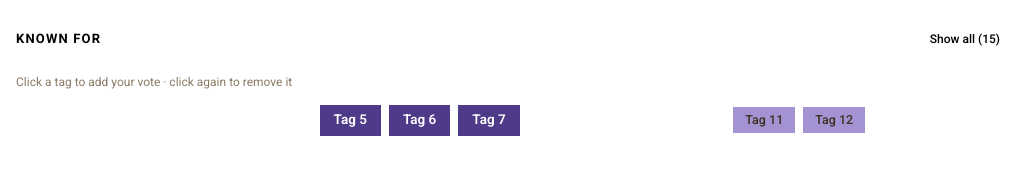
Test case: RankedTagCloud › hides everything past the first twelve until asked
Click the button "Show all (15)" at point(965, 39), box [930,17,1000,61]
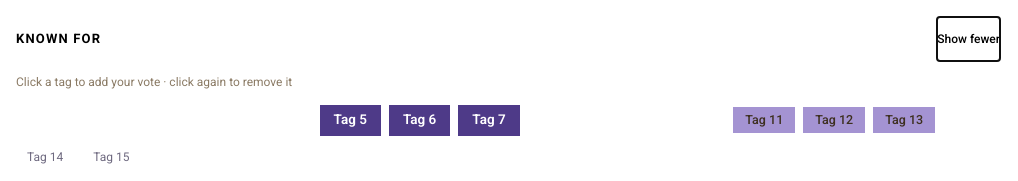
Check: the number of buttons "Tag 1" is 15
